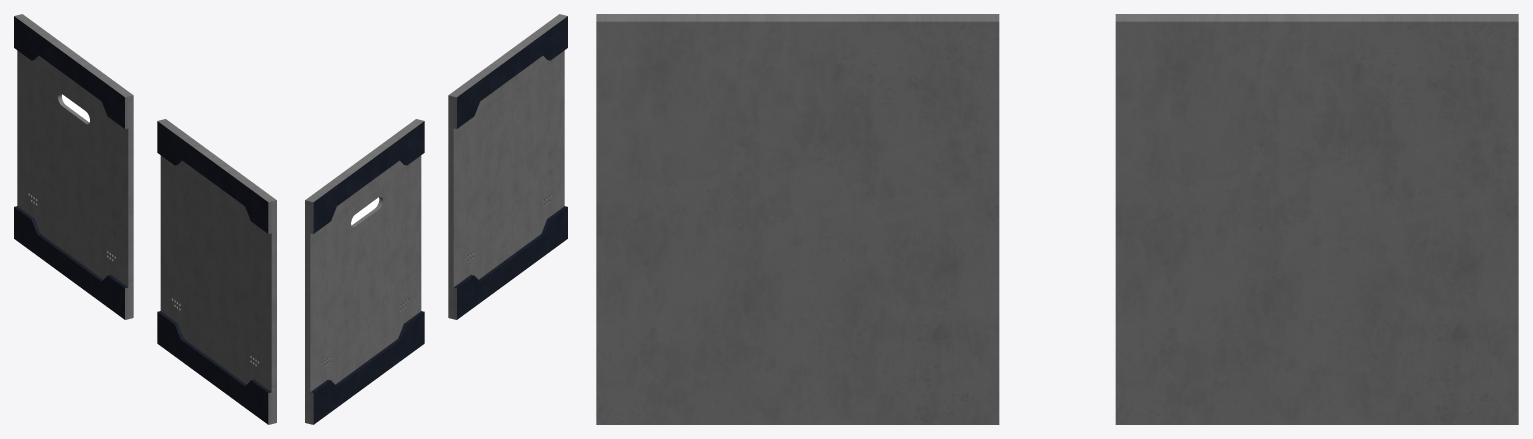
The model's file is sci-fi_wall_panels.glb.
3 views of the same model, side by side, from view 1: azimuth 30°, elevation 25°; view 2: azimuth 150°, elevation 25°; view 3: azimuth 270°, elevation 25° (orthographic). The views are drawn at different scales.
Visible parts, largest first — view 1: wallpanel01-col, wallpanel02-col; view 2: wallpanel02-col, wallpanel01-col; view 3: wallpanel01-col, wallpanel02-col.
Boxes of the visible parts, <box> form: wallpanel01-col: <box>14,14,133,319</box>; wallpanel02-col: <box>157,119,276,424</box>; wallpanel02-col: <box>448,14,567,319</box>; wallpanel01-col: <box>305,119,424,424</box>; wallpanel01-col: <box>1115,14,1518,424</box>; wallpanel02-col: <box>596,14,999,424</box>.
Bounding box in the file's own units: 0.9368 × 23.42 × 48.51.
5 materials, 4 textured.
